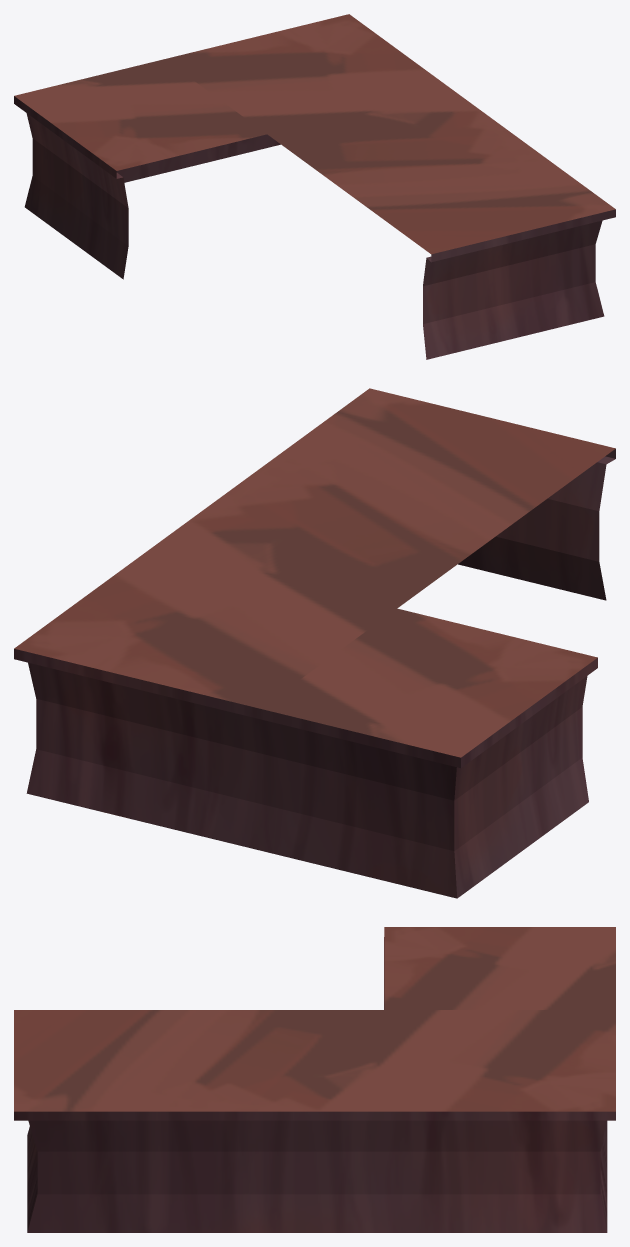
The model's file is Balcao.fbx.
3 views of the same model, one above another, from view 1: azimuth 30°, elevation 25°; view 2: azimuth 150°, elevation 25°; view 3: azimuth 270°, elevation 25° (orthographic). The views are drawn at different scales.
Visible parts, largest first — view 1: Balcao; view 2: Balcao; view 3: Balcao.
Part boxes in pixels (left/top/right/bottom): Balcao: left=14, top=14, right=615, bottom=359; Balcao: left=14, top=388, right=615, bottom=898; Balcao: left=14, top=927, right=615, bottom=1232.
Bounding box in the file's own units: 377 × 519 × 118.
